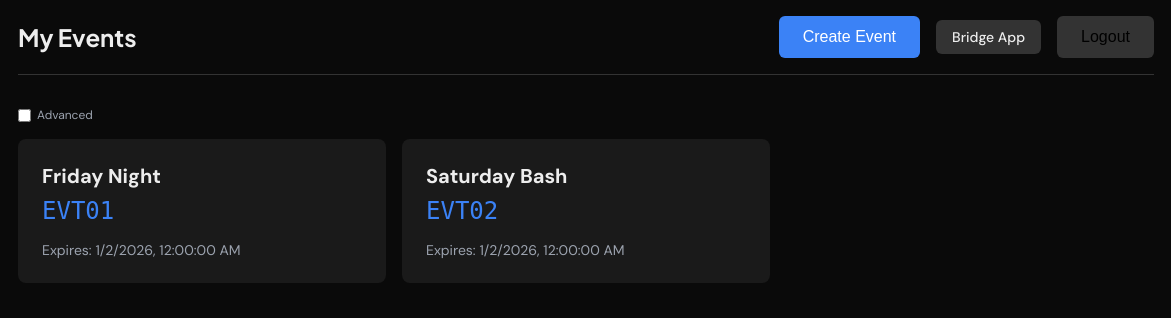
Test: EventsPage › Batch delete (selection mode) › exiting advanced mode clears selection
This screenshot has width=1171, height=318.
Check: the heading "Friday Night" is shown, box [42,163,161,189]
Step 1. Click the checkbox labelled "Advanced" → [24, 115], box [18,108,31,122]
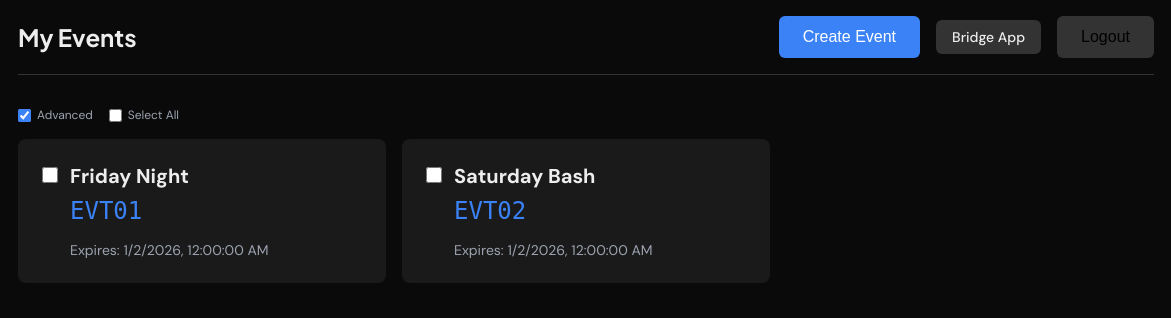
Step 2. Click the checkbox named "Select event" → [50, 175], box [42,167,58,183]
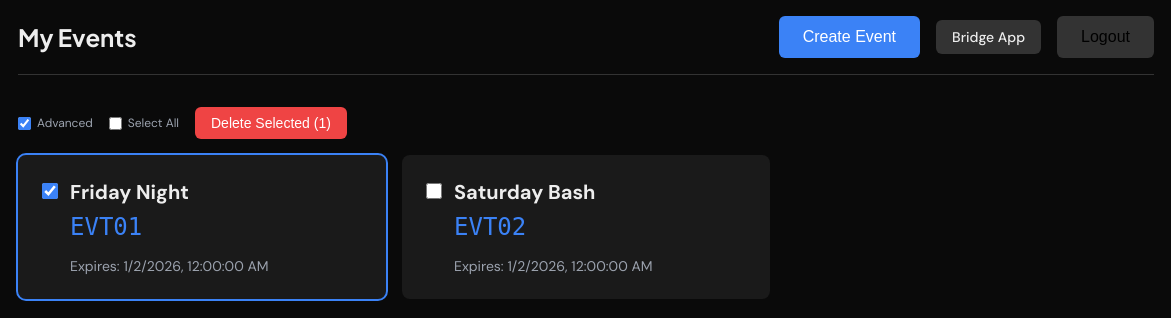
Check: the button "Delete Selected (1)" is shown, box [195,107,347,139]
// Exit advanced mode
Step 3. Click the checkbox labelled "Advanced" → [24, 123], box [18,116,31,130]
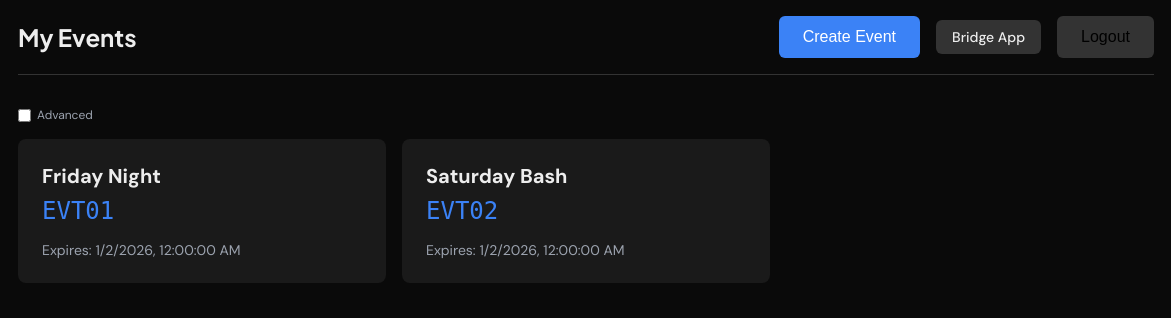
Check: the button "Delete Selected" is gone
